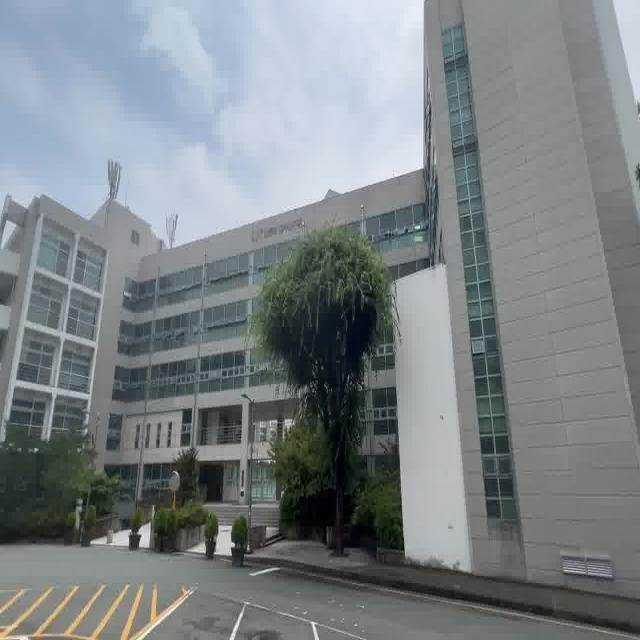building: (13, 178, 259, 456)
